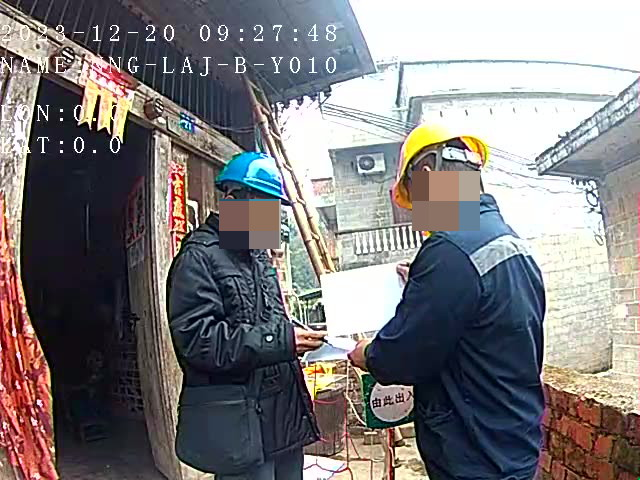halt: (394, 120, 492, 227), (214, 152, 284, 237)
hand: (291, 323, 325, 352), (348, 340, 369, 369)
inear: (411, 153, 444, 219), (221, 183, 250, 226)
intosign: (359, 374, 413, 428)
person: (349, 120, 556, 480), (167, 151, 330, 480)
upcloth: (161, 210, 316, 451)
upsuit: (368, 191, 553, 480)
